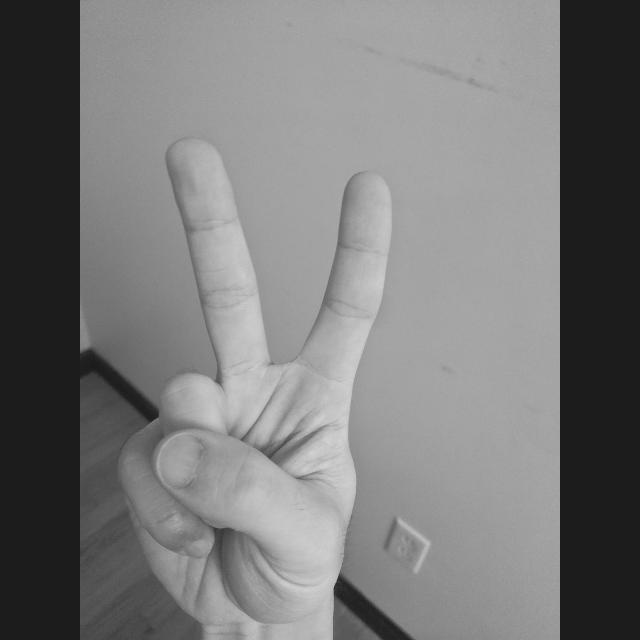V: (112, 132, 400, 640)
